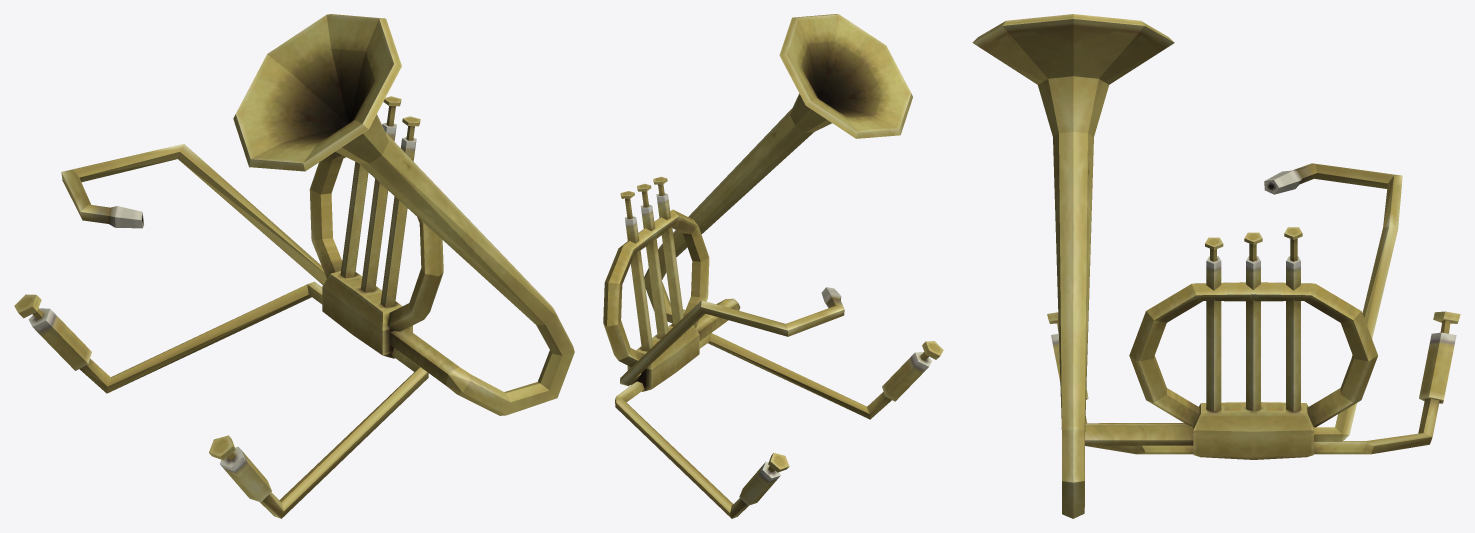
The model's file is Mole_trumpet.obj.
The picture shows the model from 3 angles, left to right: view 1: azimuth 30°, elevation 25°; view 2: azimuth 150°, elevation 25°; view 3: azimuth 270°, elevation 25°; orthographic projection. The views are drawn at different scales.
Visible parts, largest first — view 1: Mole_trumpet_tri; view 2: Mole_trumpet_tri; view 3: Mole_trumpet_tri.
Boxes of the visible parts, box(x1,y1,x2,y2) form: Mole_trumpet_tri: box(14, 14, 574, 518); Mole_trumpet_tri: box(603, 14, 943, 518); Mole_trumpet_tri: box(972, 14, 1460, 518).
Bounding box in the file's own units: 0.7078 × 0.8674 × 0.804.
Materials: 1 (1 with a texture image).
